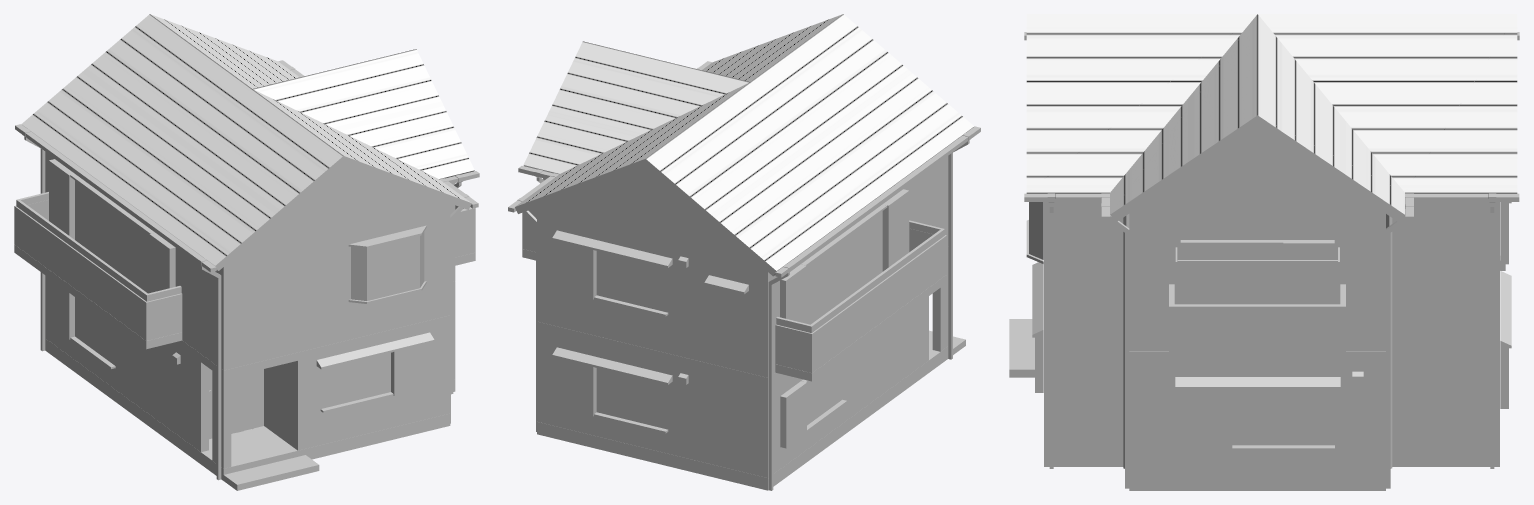
File: House_2021_E.fbx
3 views of the same model, side by side, from view 1: azimuth 30°, elevation 25°; view 2: azimuth 150°, elevation 25°; view 3: azimuth 270°, elevation 25° (orthographic). The views are drawn at different scales.
Parts seen in each view (by area): view 1: House_2021_E; view 2: House_2021_E; view 3: House_2021_E.
Boxes of the visible parts, x1,y1,x2,y2 form: House_2021_E: (14,14,479,490); House_2021_E: (508,14,980,490); House_2021_E: (1009,14,1519,490).
Bounding box in the file's own units: 865 × 740 × 894.
